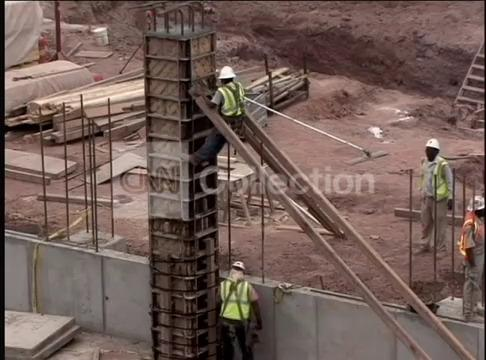Helmet: (466, 195, 485, 211), (215, 66, 235, 80), (425, 138, 440, 150), (232, 261, 244, 272)
Person: (188, 65, 246, 167), (412, 137, 453, 258), (217, 260, 263, 359), (458, 196, 486, 333)
Safety Boot: (182, 151, 203, 165), (466, 311, 483, 324), (414, 245, 430, 255), (434, 249, 448, 257)
Safety Vest: (220, 279, 251, 319), (420, 163, 448, 195), (215, 85, 244, 110), (464, 221, 483, 256)
bare-arms: (446, 197, 454, 210)
